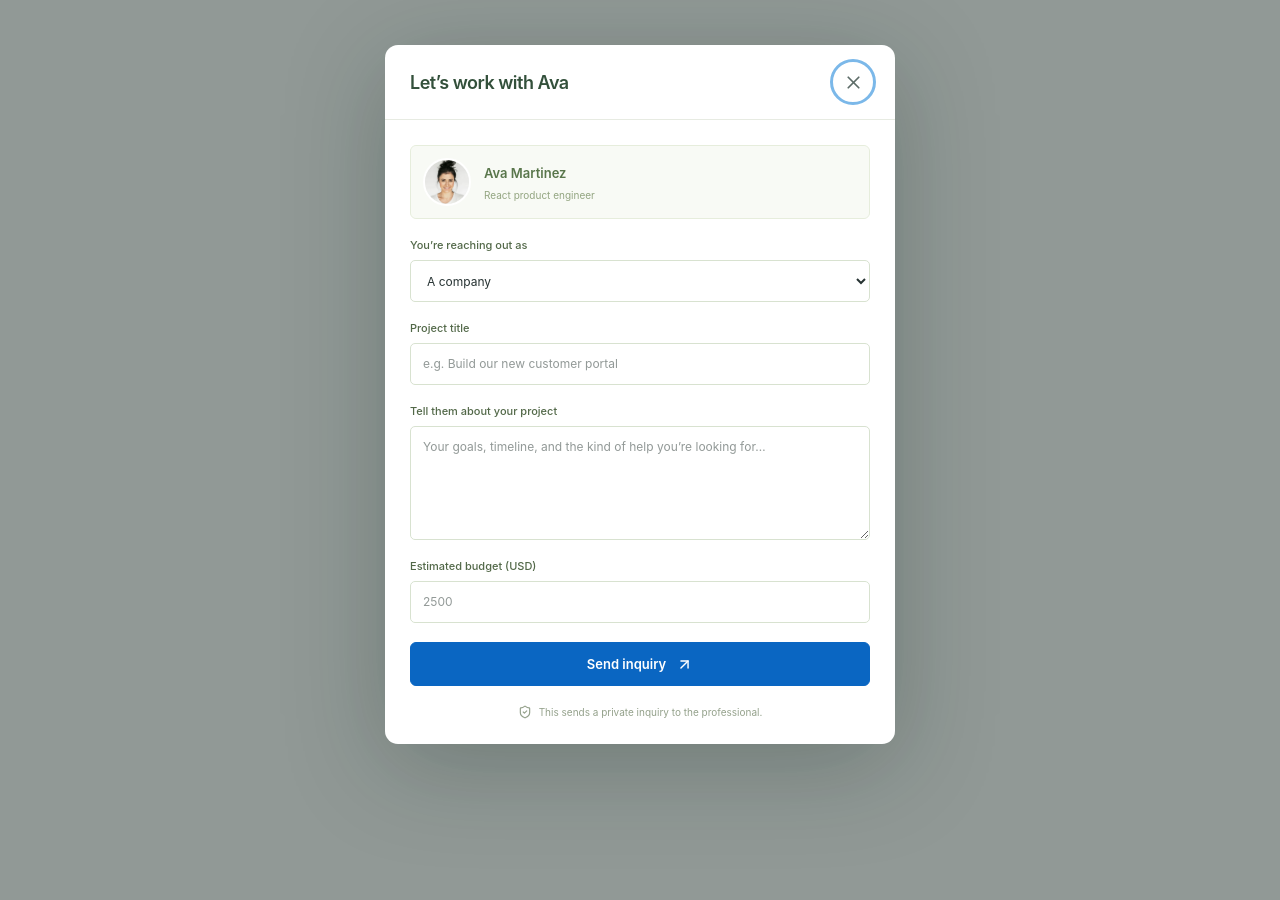
Scenario: preserves prior uncertainty when a later retry or reconciliation is rejected before reaching the database
In the field labelled "Project title": (640, 364) [410, 343, 870, 385], type "Customer portal"
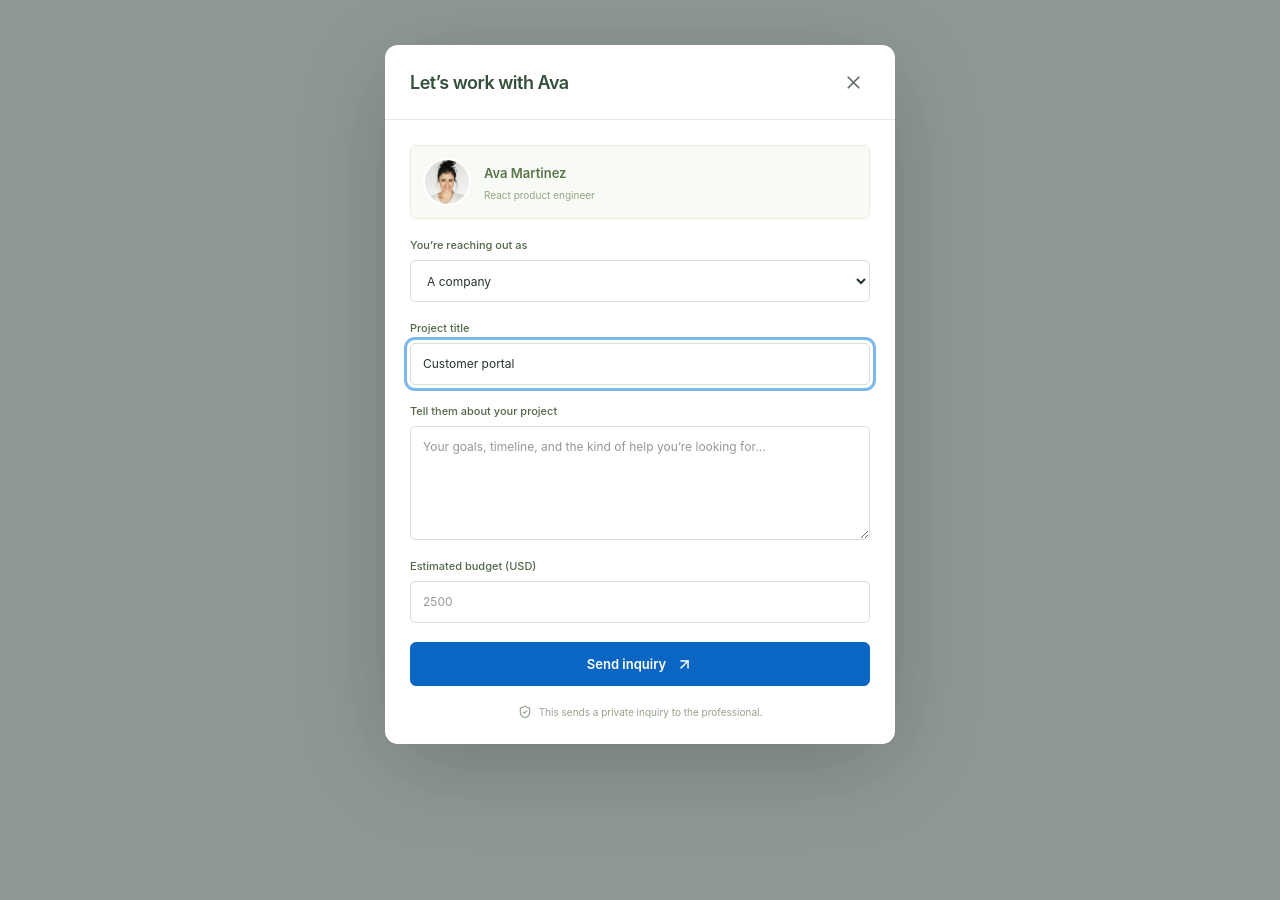
In the text box labelled "Tell them about your project": (640, 483) [410, 426, 870, 540], type "Build a secure portal for our customer accounts."
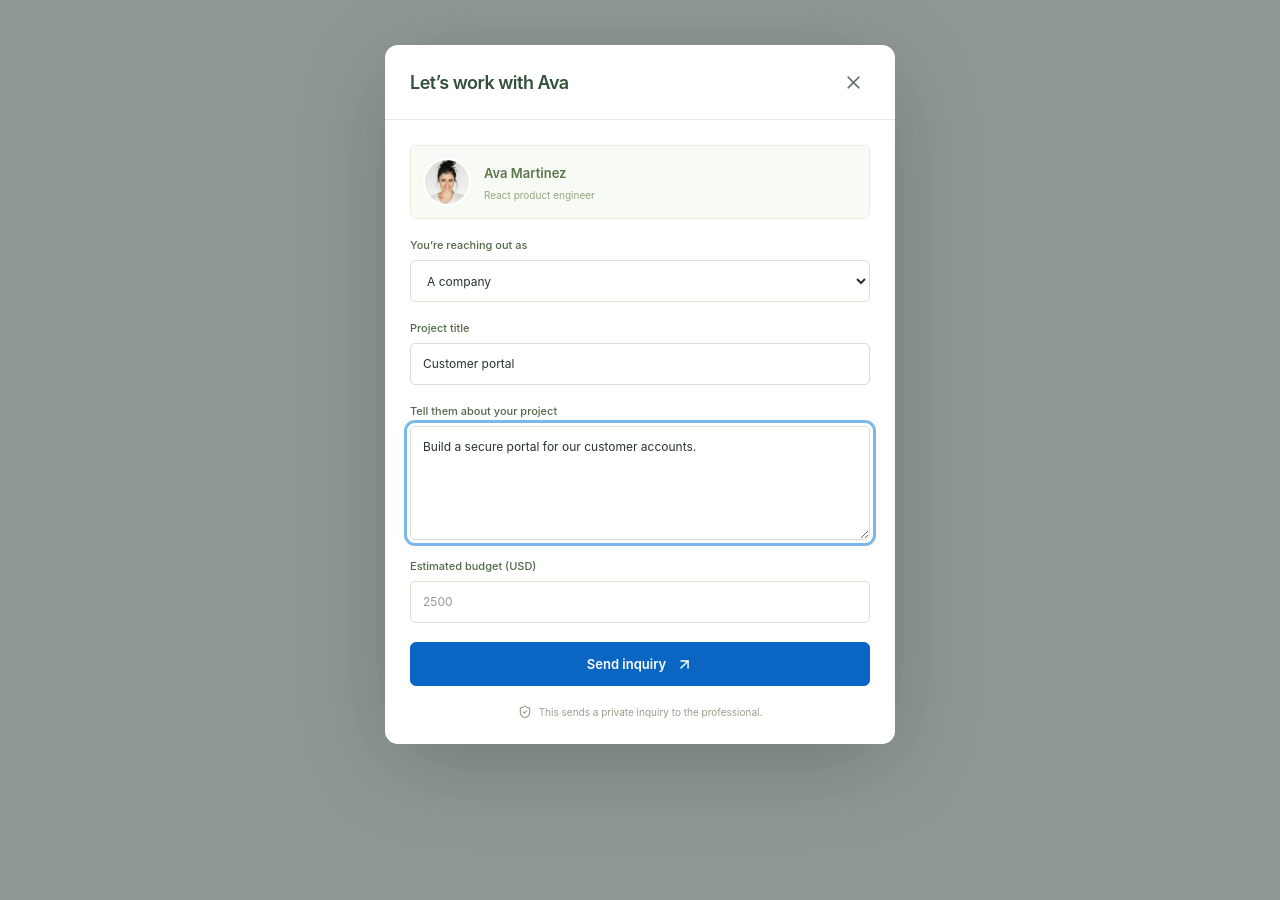
In the number field labelled "Estimated budget (USD)": (640, 602) [410, 581, 870, 623], type "5000"
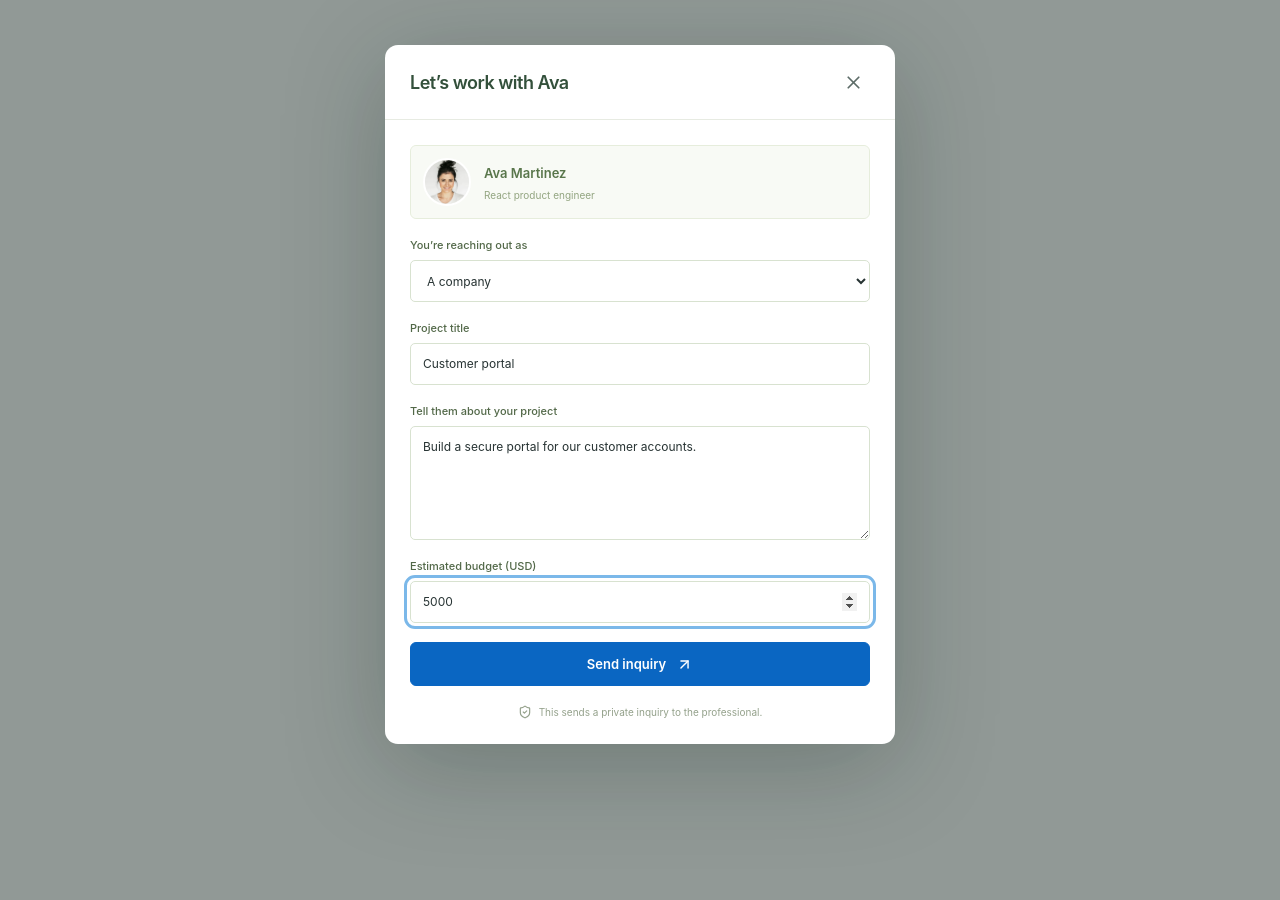
Click the button "Send inquiry": (640, 664) [410, 642, 870, 686]
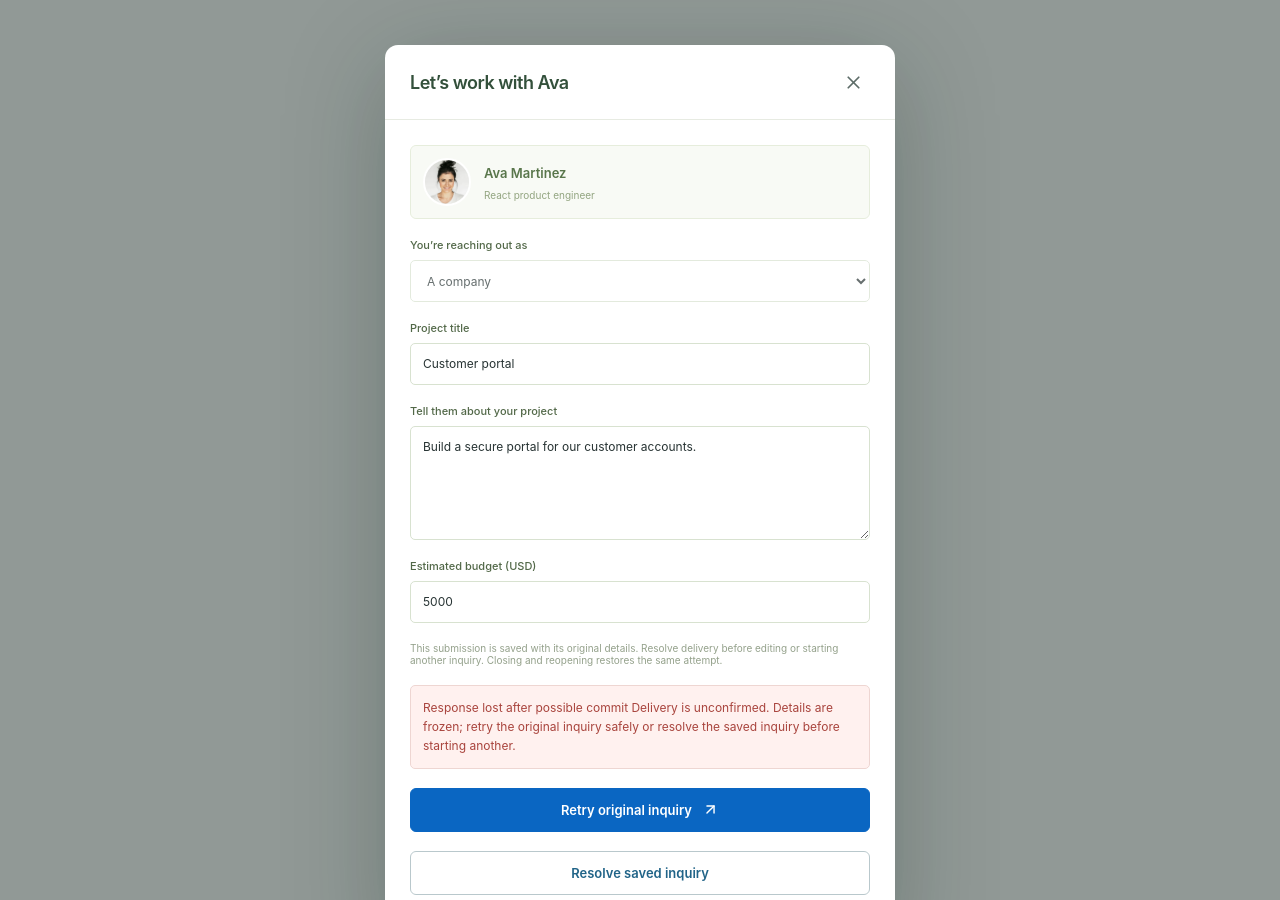
Now the 2nd message is shown, box [410, 685, 870, 769]
Click the button "Retry original inquiry": (640, 810) [410, 788, 870, 832]
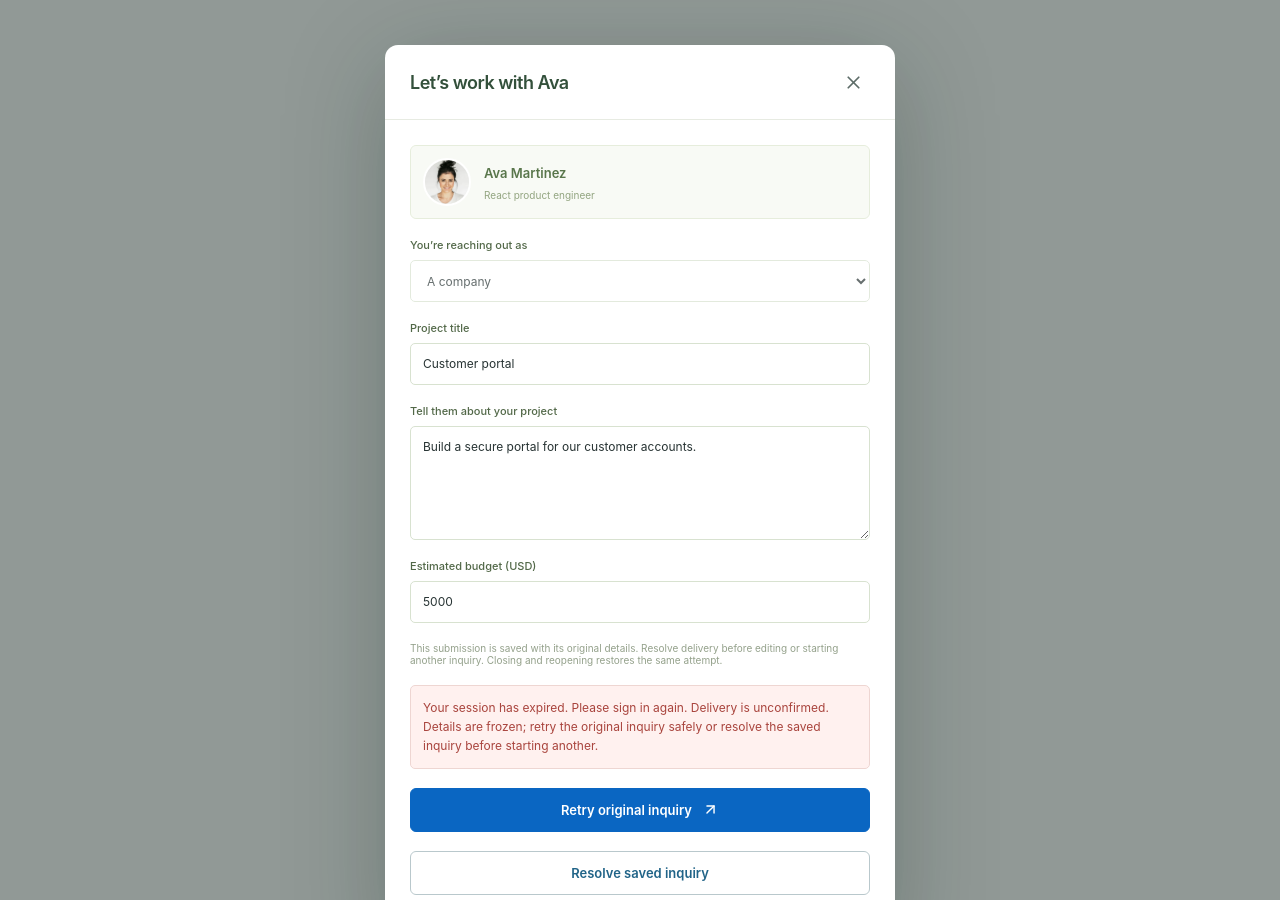
Expected: the button "Send inquiry" is not shown
Now the field labelled "Project title" is disabled, box [410, 343, 870, 385]
Now the 2nd message shows "session has expired", box [423, 700, 829, 753]
Click the button "Resolve saved inquiry": (640, 873) [410, 851, 870, 895]
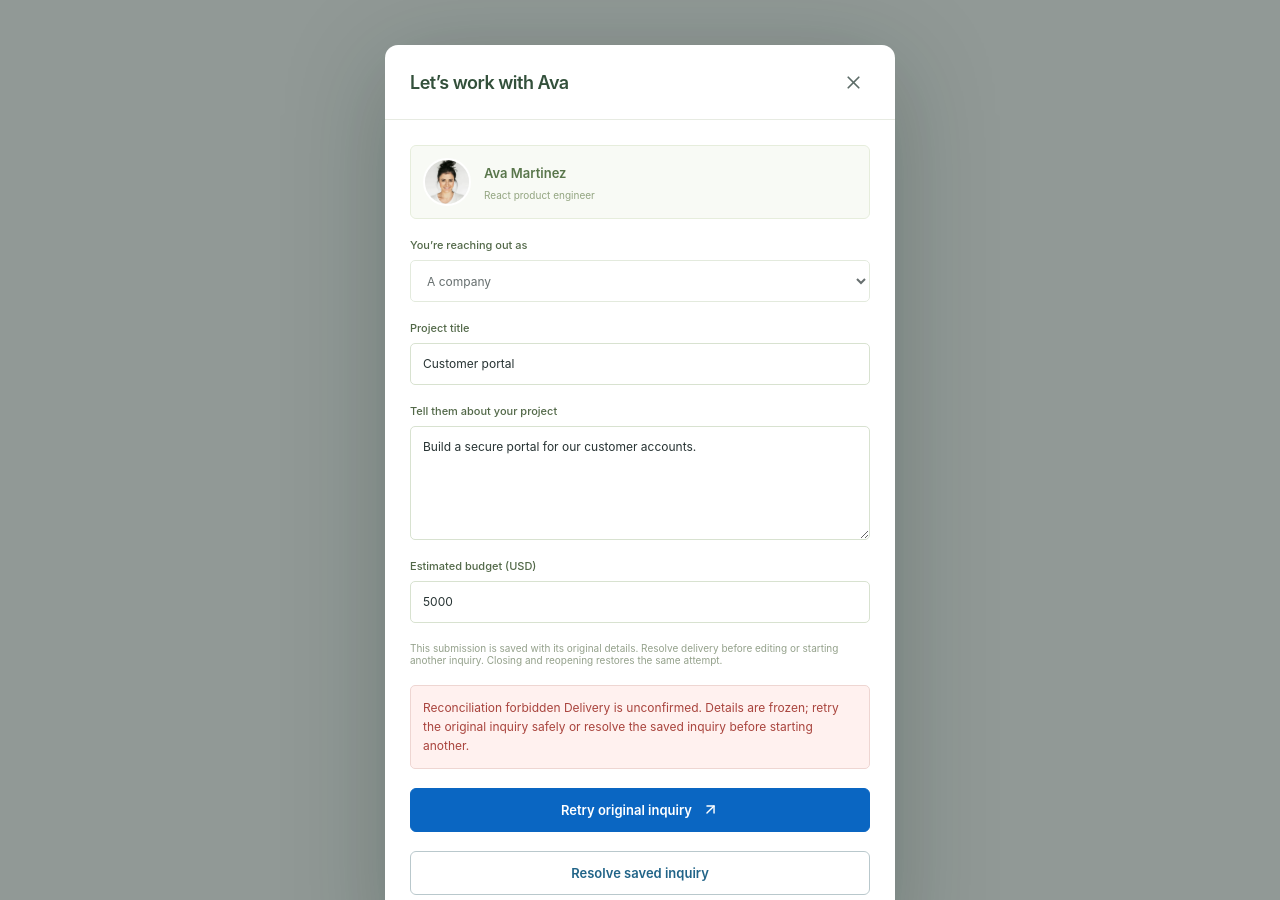
Now the field labelled "Project title" is disabled, box [410, 343, 870, 385]
Now the 2nd message shows "Reconciliation forbidden", box [423, 700, 839, 753]
